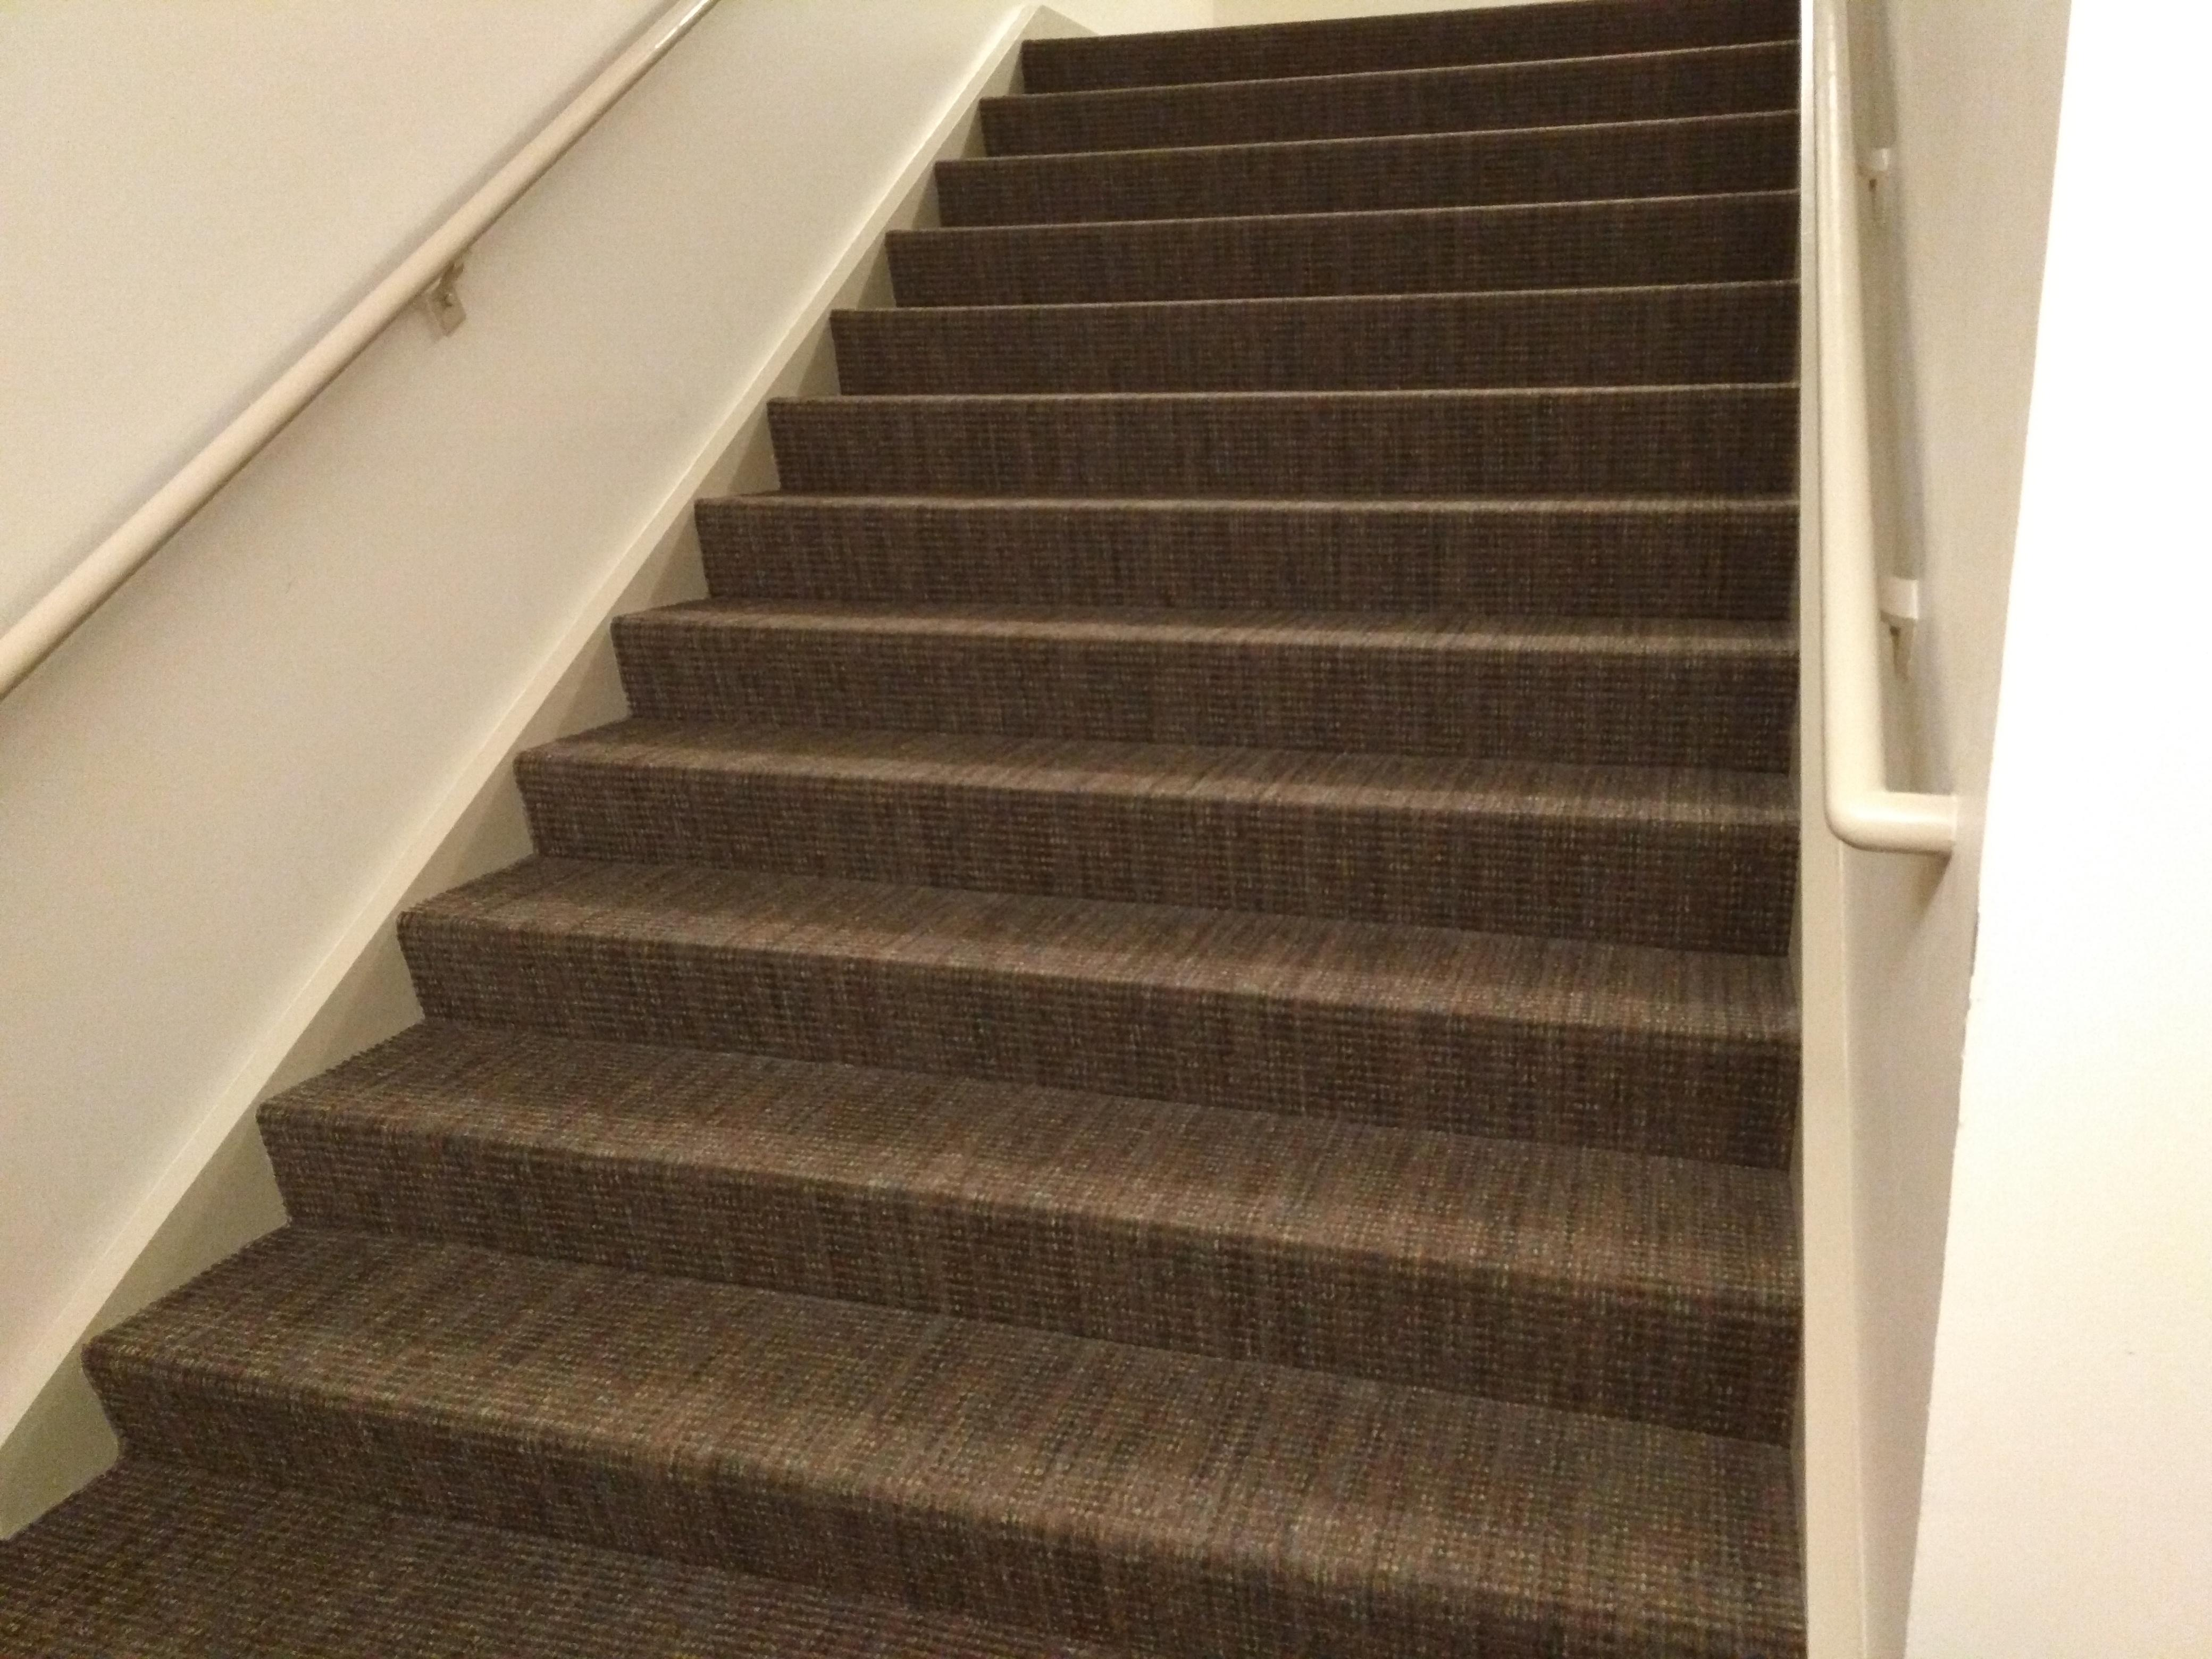stairs_up: (75, 3, 1813, 1624)
